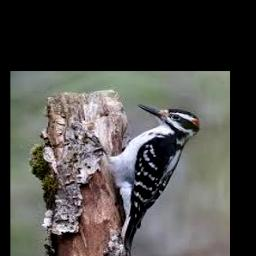Woodpecker: (107, 104, 199, 254)
